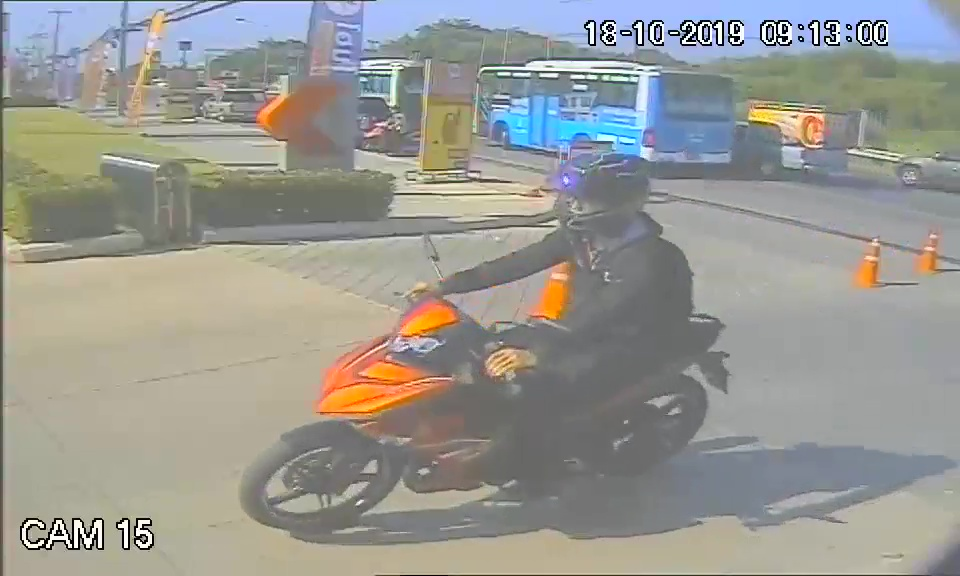motorcycle: (238, 291, 733, 539)
